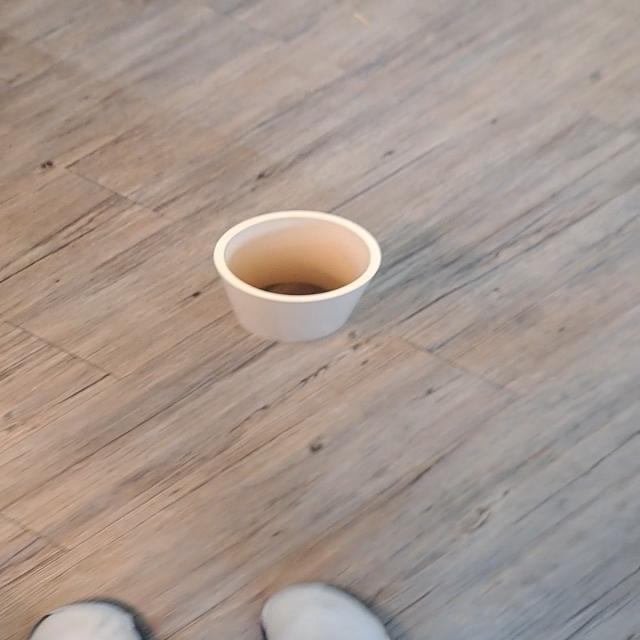CORAL: (190, 195, 417, 358)
